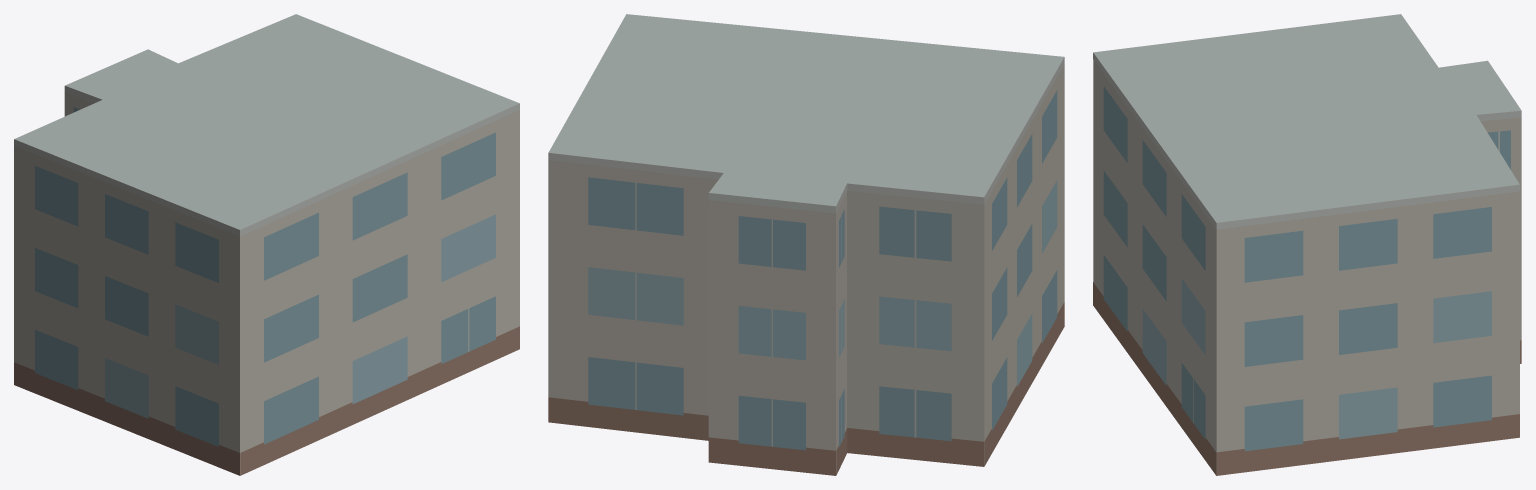
The model's file is survey-upis-32990453.glb.
3 renders of one model, left to right at view 1: azimuth 30°, elevation 25°; view 2: azimuth 150°, elevation 25°; view 3: azimuth 270°, elevation 25°, orthographic. The views are drawn at different scales.
Parts seen in each view (by area): view 1: survey-upis-32990453.tmp; view 2: survey-upis-32990453.tmp; view 3: survey-upis-32990453.tmp.
Boxes of the visible parts, x1,y1,x2,y2 form: survey-upis-32990453.tmp: (14,14,519,475); survey-upis-32990453.tmp: (548,14,1064,475); survey-upis-32990453.tmp: (1093,14,1521,475).
Bounding box in the file's own units: 16.22 × 9.15 × 14.06.
